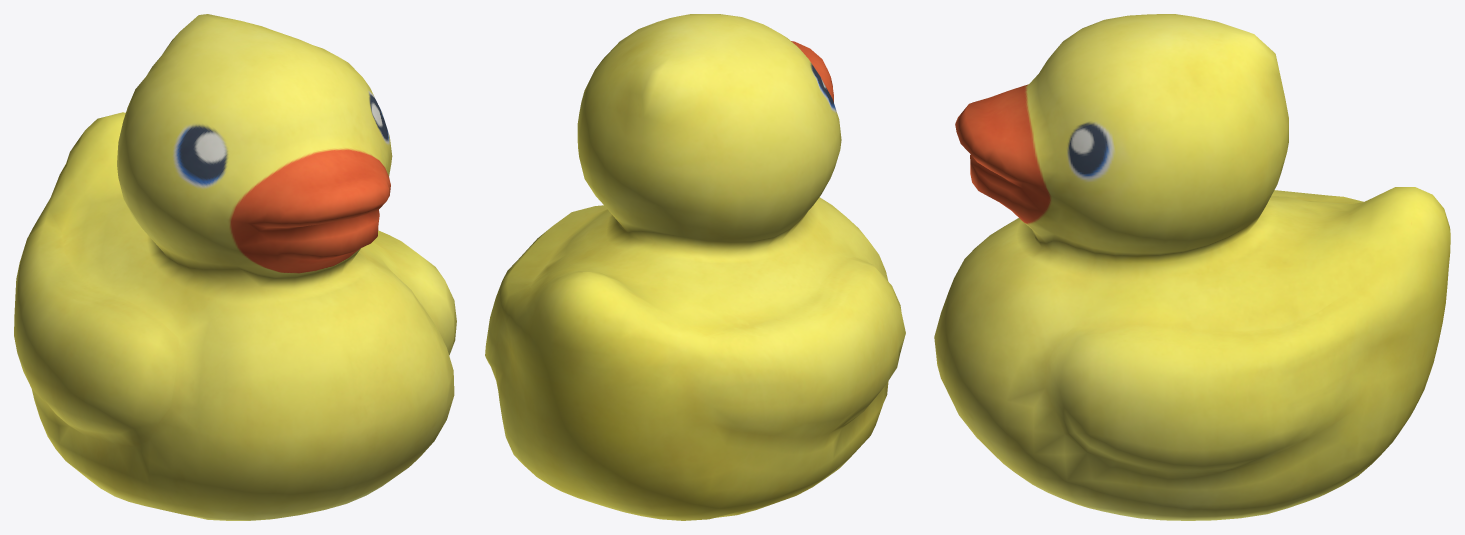
The model's file is Duck_down.glb.
3 renders of one model, left to right at view 1: azimuth 30°, elevation 25°; view 2: azimuth 150°, elevation 25°; view 3: azimuth 270°, elevation 25°, orthographic. The views are drawn at different scales.
Parts seen in each view (by area): view 1: Duck_down.001; view 2: Duck_down.001; view 3: Duck_down.001.
Boxes of the visible parts, <box> form: Duck_down.001: <box>14,14,456,520</box>; Duck_down.001: <box>485,14,905,520</box>; Duck_down.001: <box>934,14,1450,520</box>.
Bounding box in the file's own units: 0.135 × 0.148 × 0.1598.
1 material, 1 textured.
